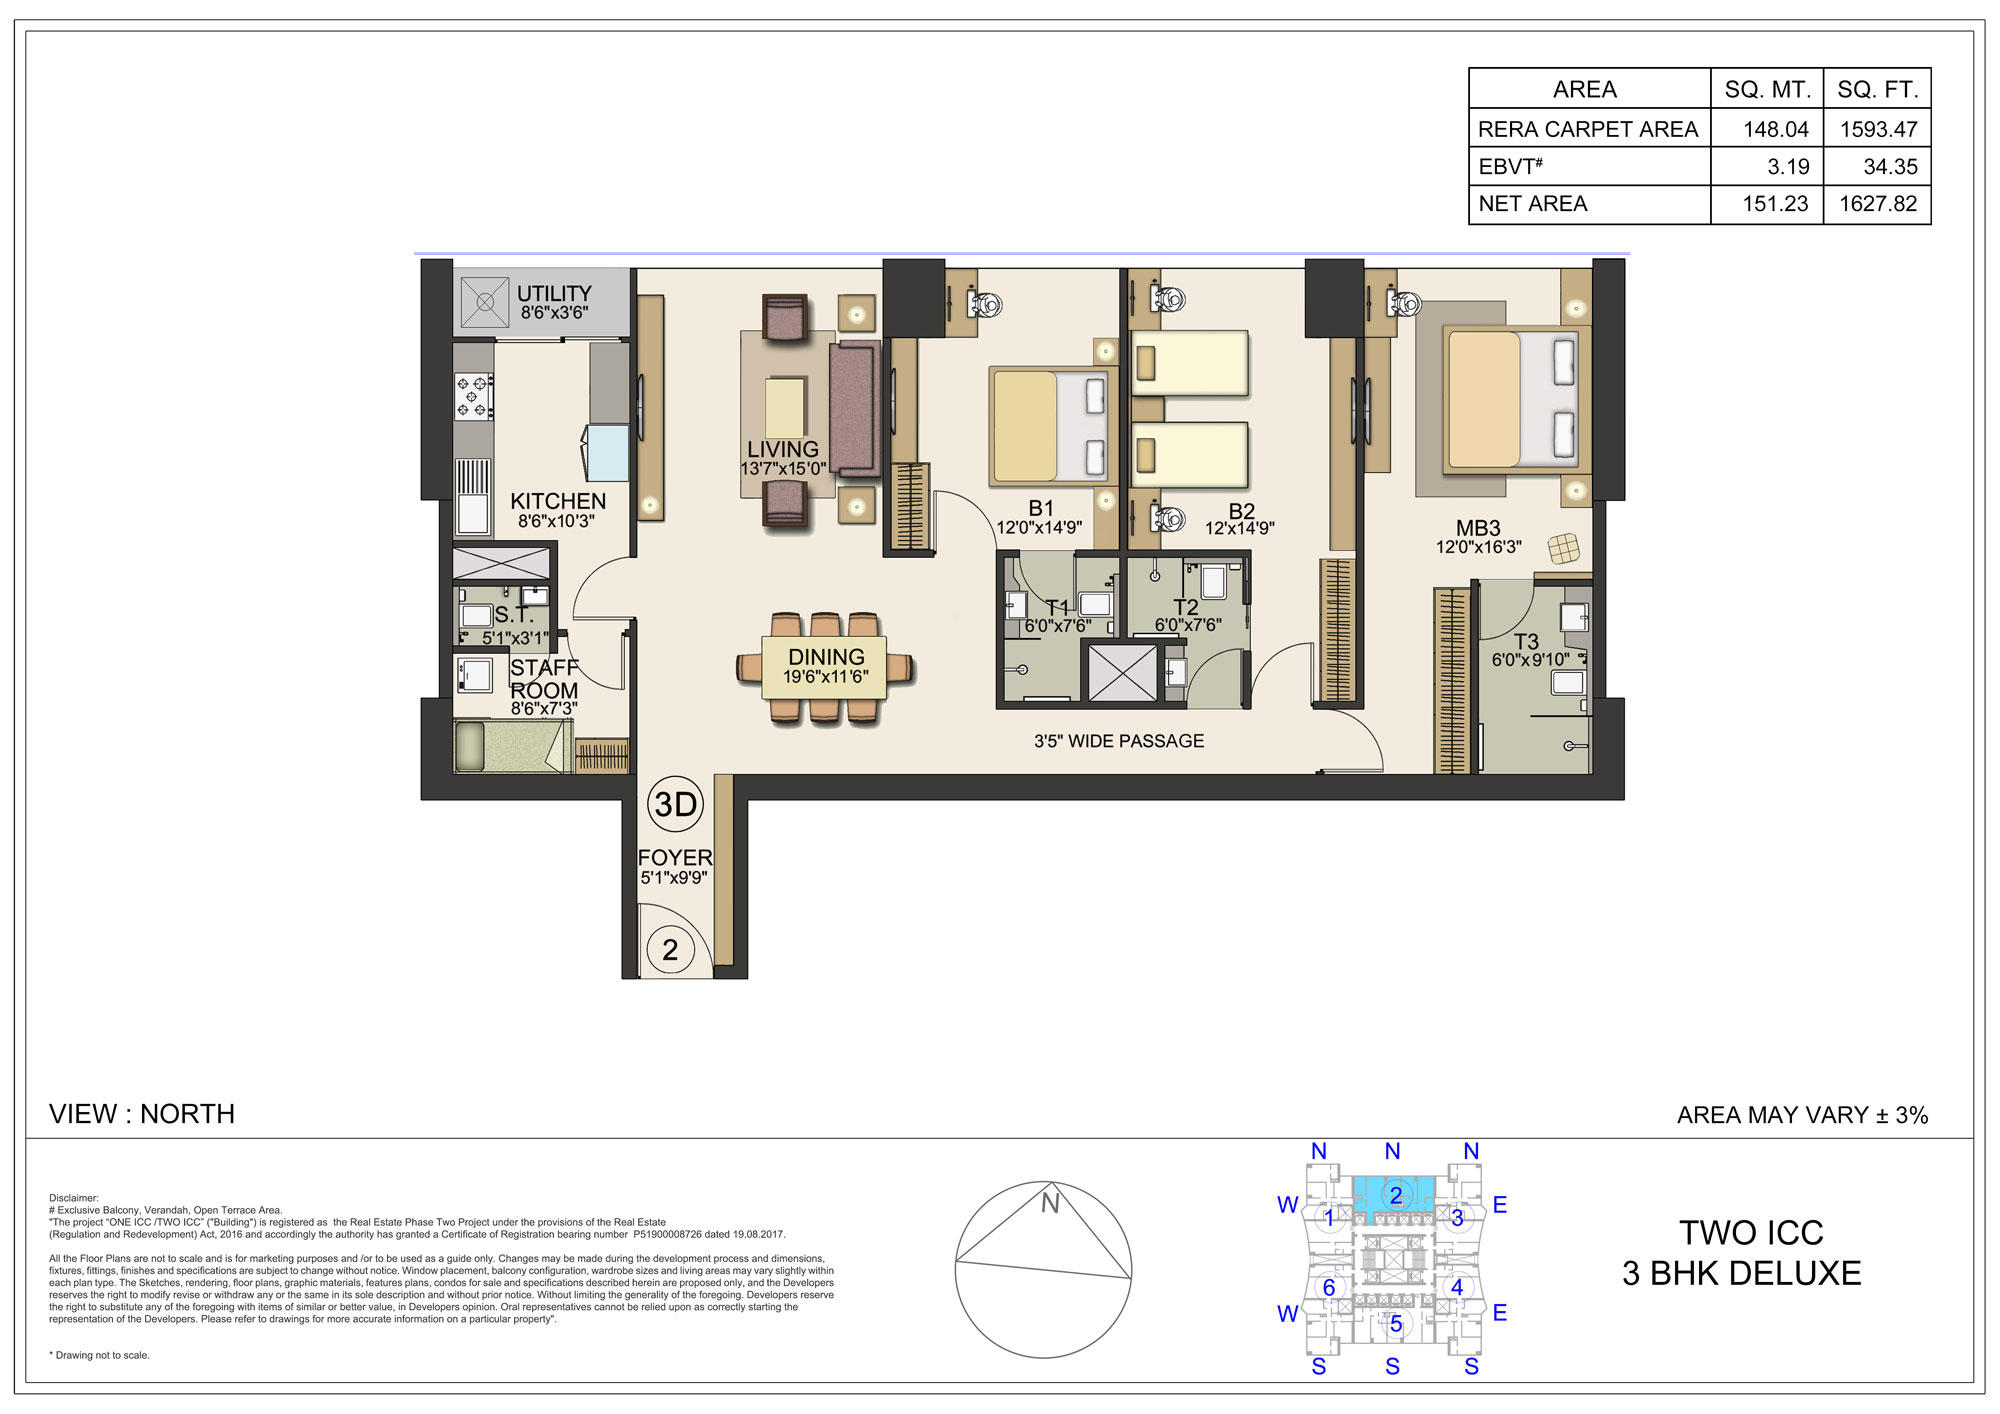door: (638, 898, 705, 969), (568, 562, 630, 624), (1327, 709, 1388, 771), (568, 638, 627, 698), (1253, 640, 1316, 696), (1191, 646, 1246, 705), (932, 488, 992, 543), (1480, 588, 1532, 643)
